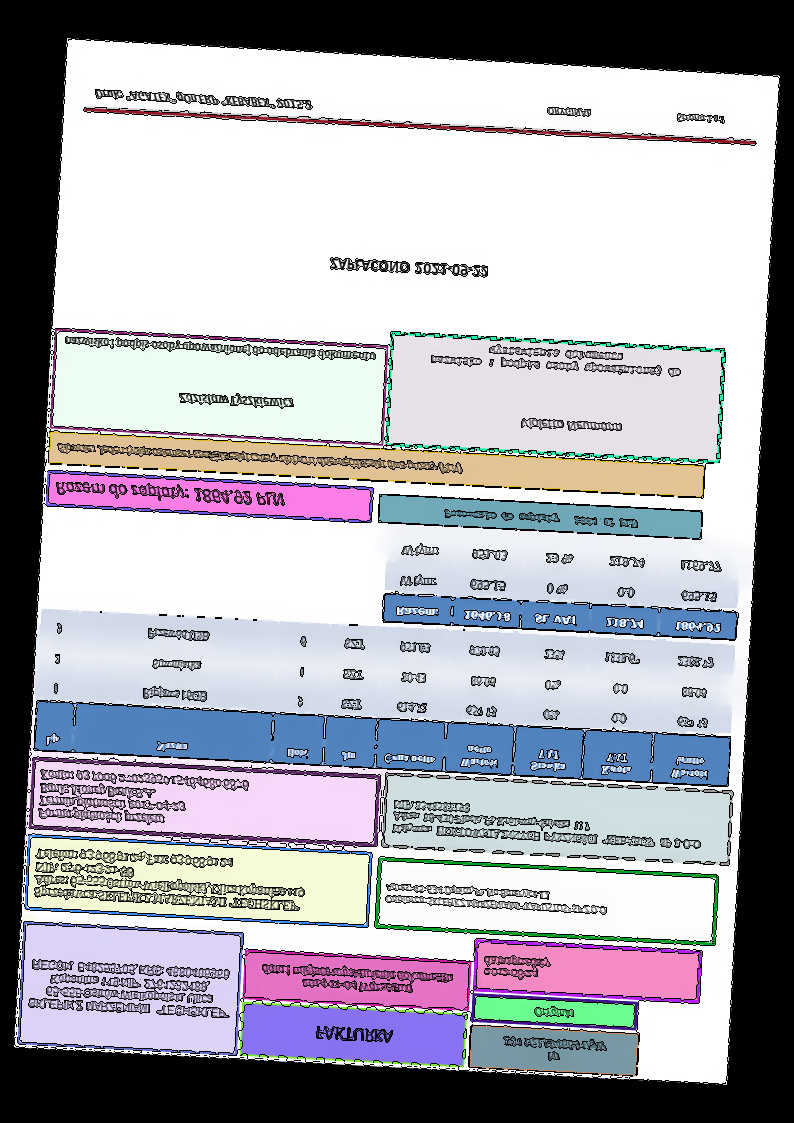Table: (31, 607, 736, 789), (380, 530, 741, 641)
TextBox: (30, 844, 309, 917), (388, 795, 706, 852), (54, 439, 464, 477), (35, 765, 252, 834), (25, 955, 232, 1022), (427, 340, 687, 382), (60, 333, 378, 366), (382, 880, 609, 920), (51, 474, 286, 510), (258, 959, 456, 998), (90, 84, 316, 115), (439, 507, 640, 531), (542, 104, 729, 129), (327, 255, 493, 281), (499, 1032, 610, 1068), (176, 389, 296, 415), (516, 414, 623, 438), (479, 950, 552, 984), (313, 1022, 397, 1046), (532, 1003, 577, 1021)
